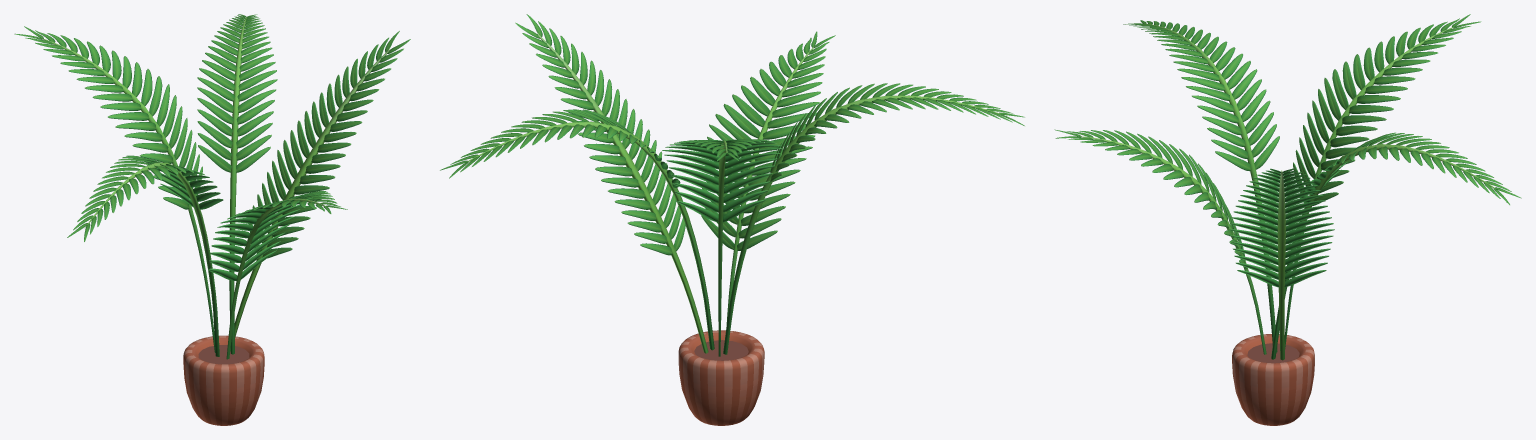
File: Plants_20.glb
3 views of the same model, side by side, from view 1: azimuth 30°, elevation 25°; view 2: azimuth 150°, elevation 25°; view 3: azimuth 270°, elevation 25° (orthographic). The views are drawn at different scales.
Visible parts, largest first — view 1: Plants_20; view 2: Plants_20; view 3: Plants_20.
Part boxes in pixels (x1,y1,x2,y2): Plants_20: [14, 14, 410, 425]; Plants_20: [440, 14, 1024, 425]; Plants_20: [1054, 14, 1521, 425].
Size of the model in its own units: 3.54 by 2.83 by 3.45.
Materials: 1 (1 with a texture image).
